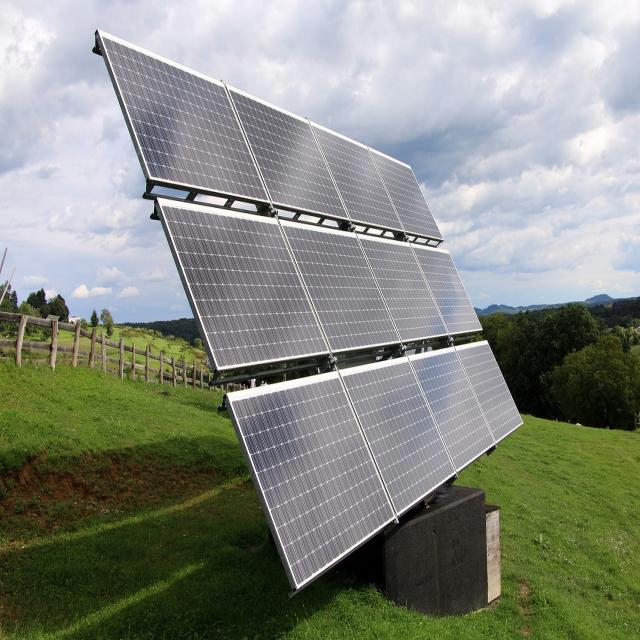clean-solar-panel: (100, 34, 268, 201)
